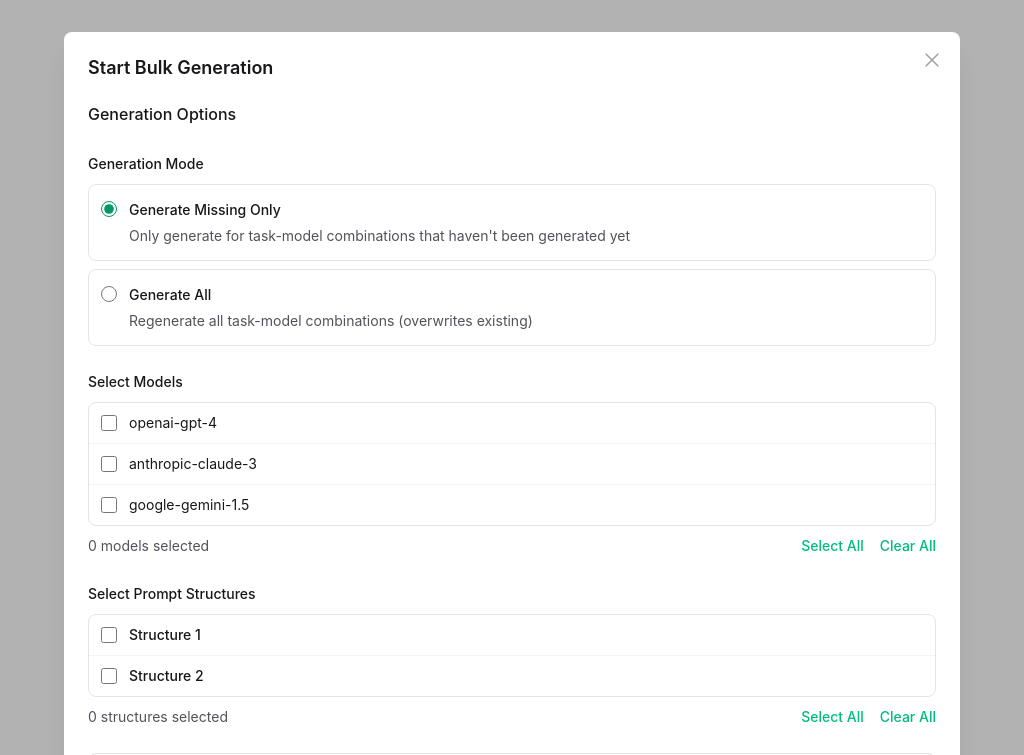
Test case: GenerationControlModal › Structure Deselection › updates count when structures are deselected
Expected: the text "Structure 1" is shown, [129, 626, 201, 643]
Click the button "Select All" in the row of "0 structures selected".
click(832, 717)  # box [801, 708, 864, 726]
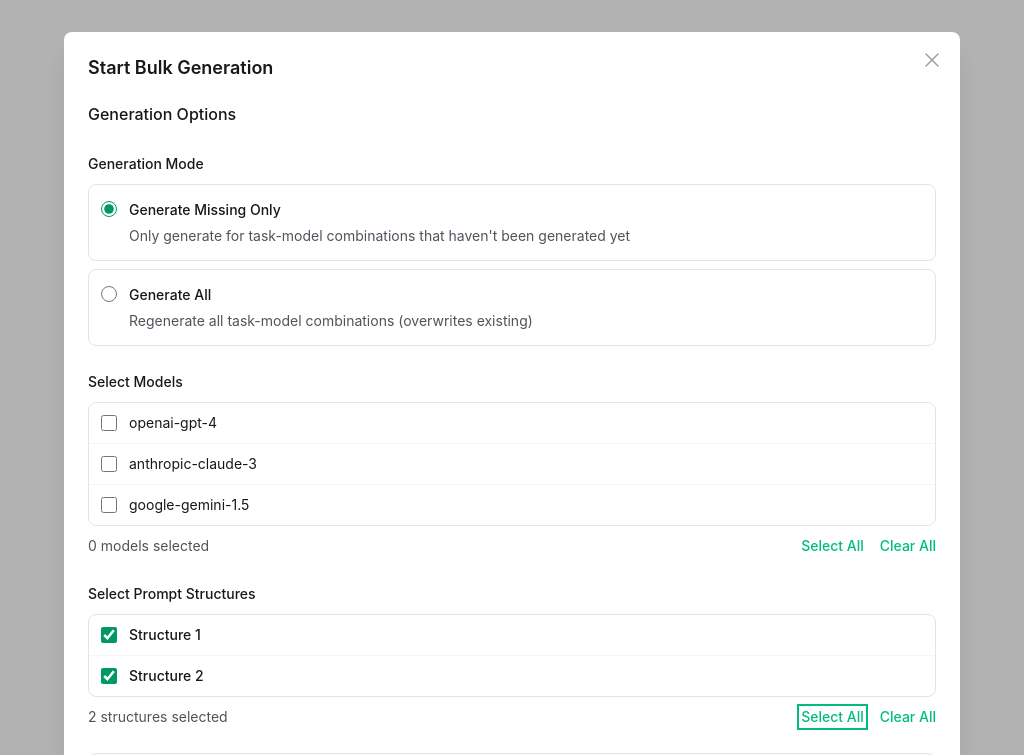
Result: the text "2 structures selected" is shown at [88, 705, 228, 729]
Click the checkbox with id "structure-struct1".
click(109, 635)  # box [101, 627, 117, 643]
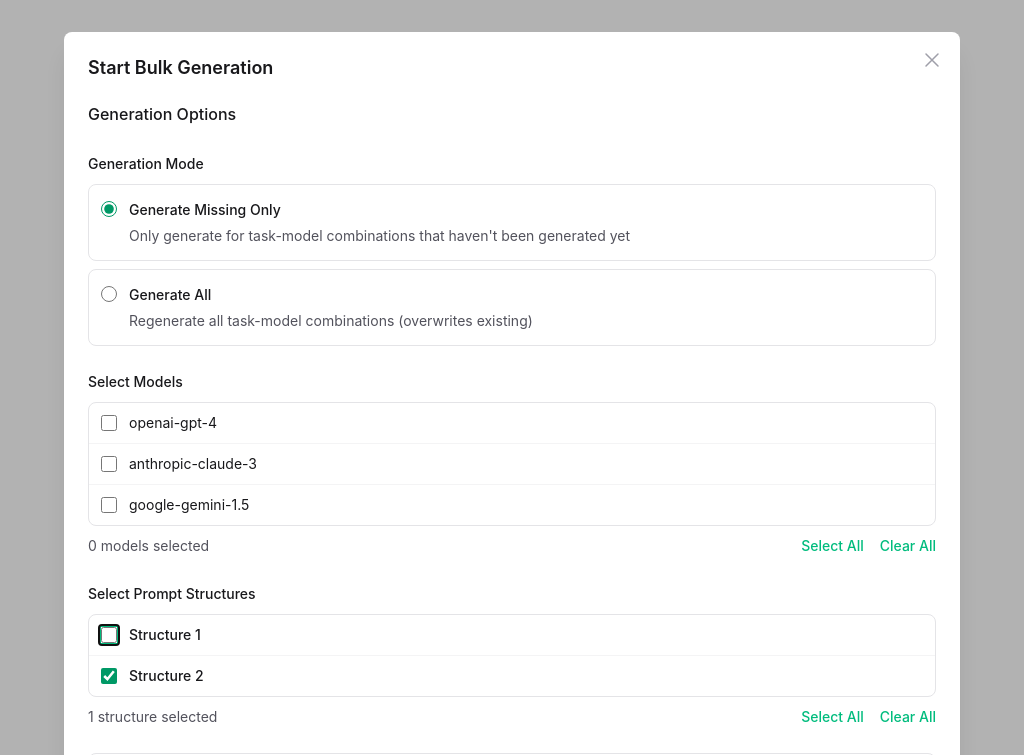
Result: the text "1 structure selected" is shown at [88, 705, 217, 729]
